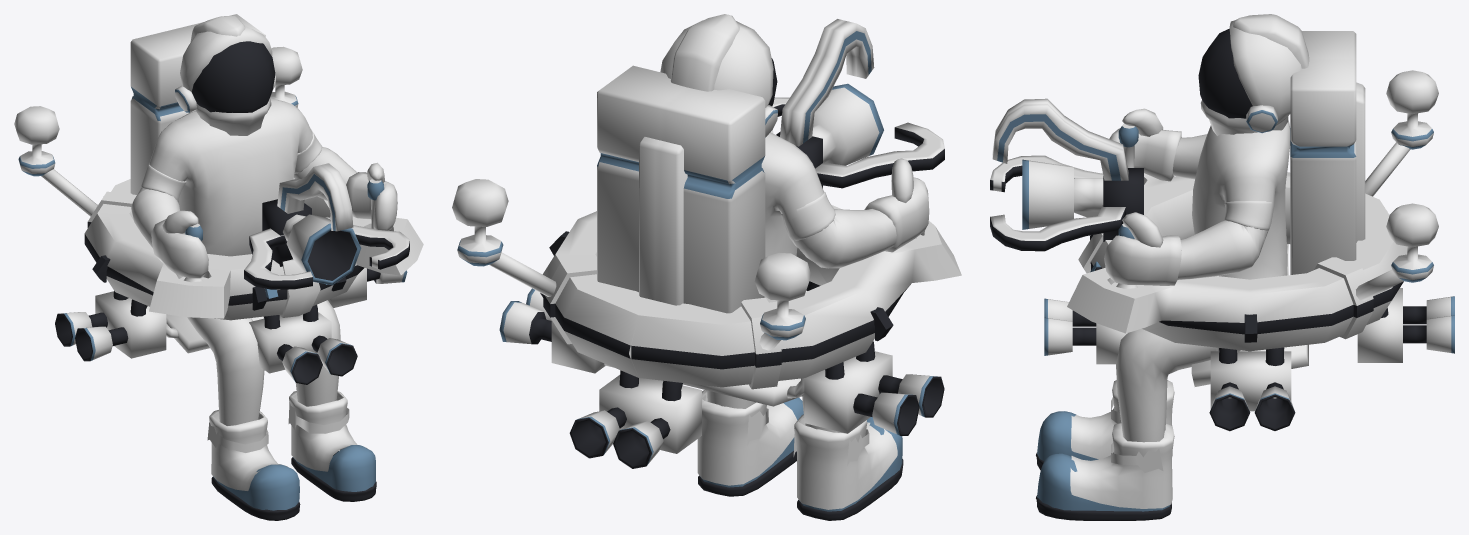
File: Astronaut.fbx
3 renders of one model, left to right at view 1: azimuth 30°, elevation 25°; view 2: azimuth 150°, elevation 25°; view 3: azimuth 270°, elevation 25°, orthographic. The views are drawn at different scales.
Visible parts, largest first — view 1: suit.001, Torus.001, Torus.002, Torus.003, helmet.001, bag.001, Cylinder.001, Cube.001, Cylinder, Torus; view 2: bag.001, Torus.001, suit.001, Torus.002, Torus.003, Cylinder.001, helmet.001, Torus, Cube.001, Cylinder; view 3: suit.001, Torus.001, bag.001, Torus.003, Torus.002, helmet.001, Cylinder.001, Cube.001, Cylinder, Torus.
Boxes of the visible parts, x1=… form: suit.001: x1=131, y1=98, x2=397, y2=520; Torus.001: x1=84, y1=178, x2=423, y2=320; Torus.002: x1=55, y1=268, x2=407, y2=384; Torus.003: x1=244, y1=163, x2=409, y2=289; helmet.001: x1=175, y1=25, x2=275, y2=135; bag.001: x1=130, y1=14, x2=265, y2=208; Cylinder.001: x1=14, y1=46, x2=349, y2=452; Cube.001: x1=213, y1=445, x2=375, y2=510; Cylinder: x1=141, y1=129, x2=322, y2=201; Torus: x1=166, y1=314, x2=263, y2=353; bag.001: x1=597, y1=14, x2=765, y2=313; Torus.001: x1=540, y1=205, x2=961, y2=389; suit.001: x1=697, y1=132, x2=929, y2=520; Torus.002: x1=499, y1=281, x2=944, y2=468; Torus.003: x1=771, y1=19, x2=944, y2=188; Cylinder.001: x1=452, y1=179, x2=869, y2=466; helmet.001: x1=660, y1=20, x2=777, y2=137; Torus: x1=604, y1=363, x2=804, y2=406; Cube.001: x1=700, y1=397, x2=902, y2=511; Cylinder: x1=781, y1=191, x2=835, y2=241; suit.001: x1=1036, y1=108, x2=1290, y2=520; Torus.001: x1=1067, y1=123, x2=1407, y2=351; bag.001: x1=1233, y1=14, x2=1365, y2=274; Torus.003: x1=990, y1=98, x2=1143, y2=251; Torus.002: x1=1044, y1=244, x2=1454, y2=431; helmet.001: x1=1198, y1=20, x2=1301, y2=135; Cylinder.001: x1=1111, y1=70, x2=1438, y2=472; Cube.001: x1=1037, y1=411, x2=1169, y2=511; Cylinder: x1=1224, y1=201, x2=1273, y2=231; Torus: x1=1191, y1=344, x2=1308, y2=386.
Size of the model in its own units: 237 by 300 by 269.
